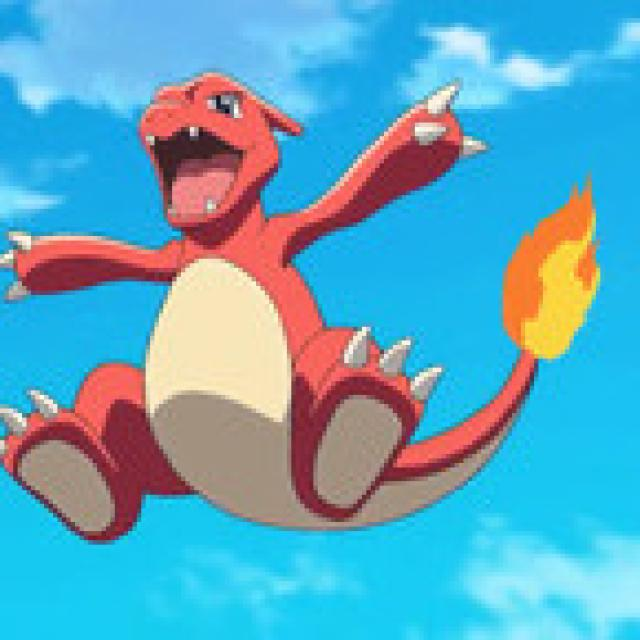Charmeleon: (0, 67, 498, 537)
